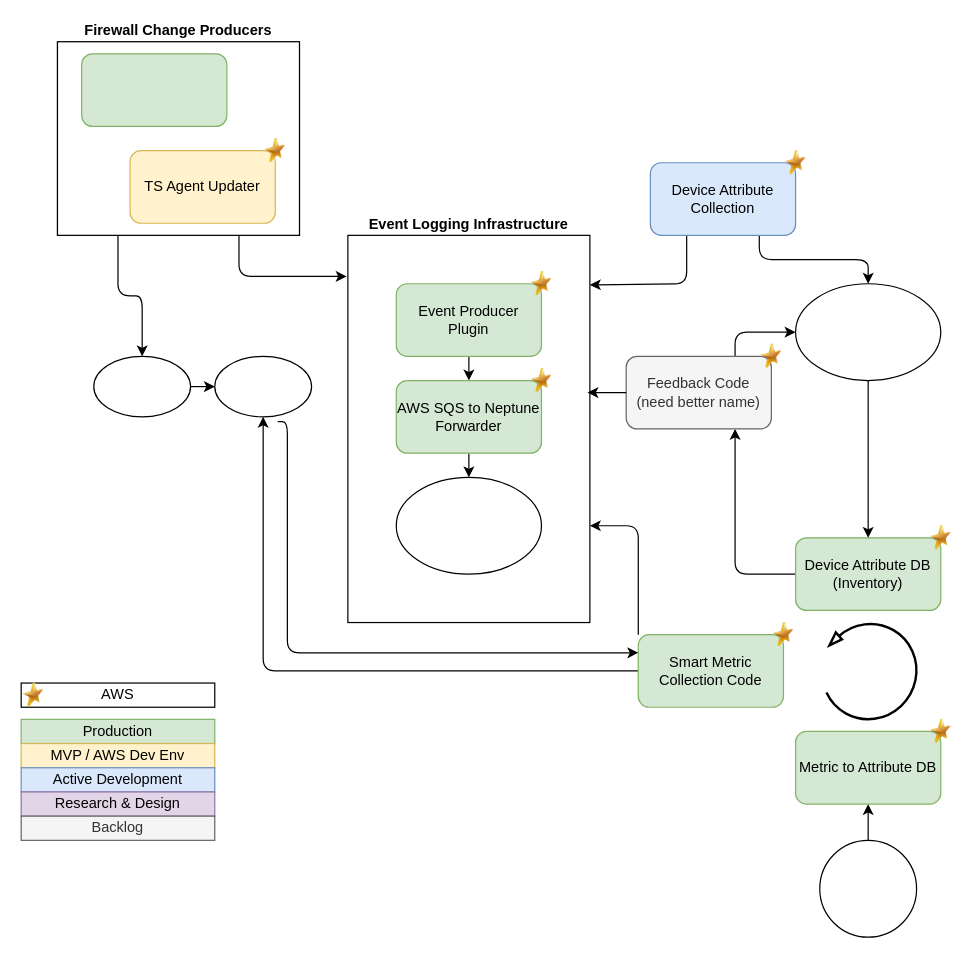
This 974x958 diagram has some shape labels left out. The shapes that lost their labels are listed below. From the top down, each one's centre as x and y in pixels, then its label:
(x=153, y=89): Server/Object Decommission
(x=867, y=332): Service Now Panorama Firewalls FireMon Coolalerts
(x=142, y=386): Panoramas
(x=263, y=386): Firewalls
(x=468, y=525): Neptune
(x=868, y=888): Human Input
